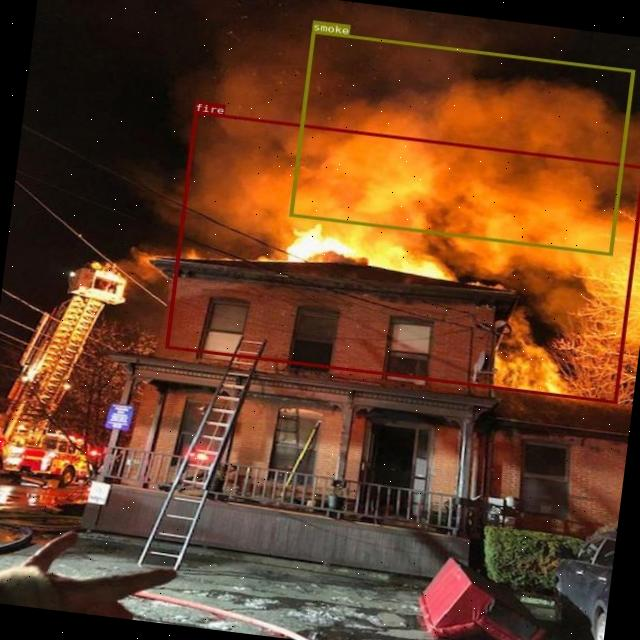fire: (163, 109, 640, 402)
smoke: (287, 30, 634, 255)
